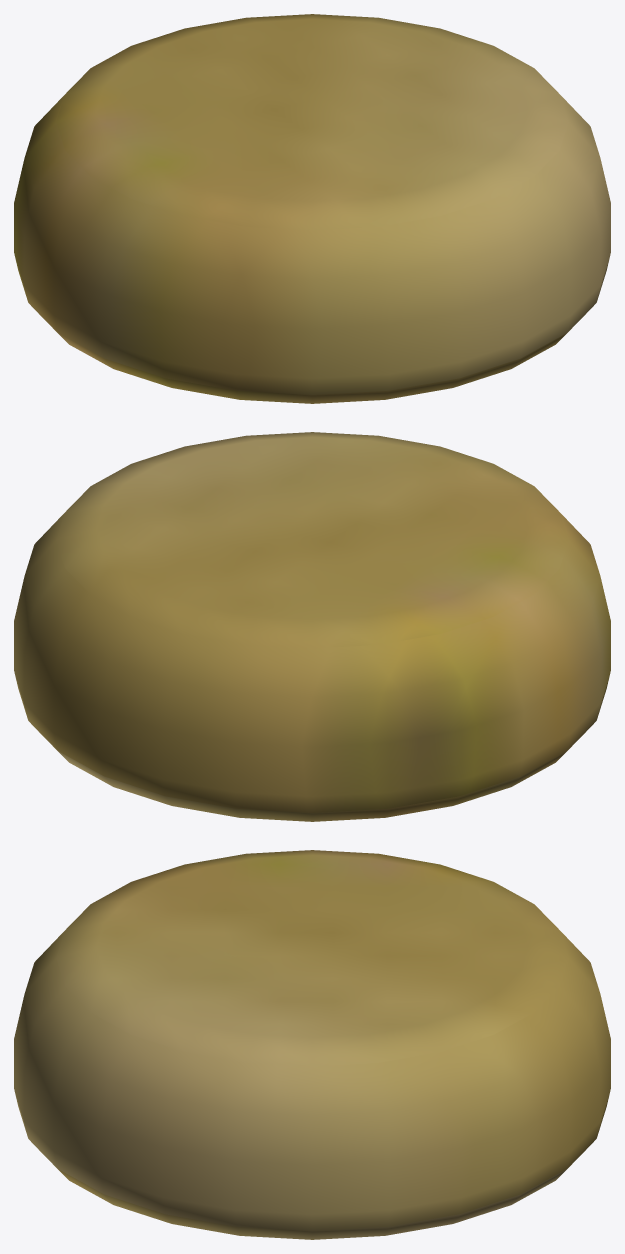
The picture shows the model from 3 angles, top to bottom: view 1: azimuth 30°, elevation 25°; view 2: azimuth 150°, elevation 25°; view 3: azimuth 270°, elevation 25°; orthographic projection.
Visible parts, largest first — view 1: Soldier_9_chinese_chess_0; view 2: Soldier_9_chinese_chess_0; view 3: Soldier_9_chinese_chess_0.
Boxes of the visible parts, <box> form: Soldier_9_chinese_chess_0: <box>14,14,610,403</box>; Soldier_9_chinese_chess_0: <box>14,432,610,821</box>; Soldier_9_chinese_chess_0: <box>14,850,610,1239</box>.
Bounding box in the file's own units: 0.2851 × 0.0945 × 0.2851.
Materials: 1 (1 with a texture image).
